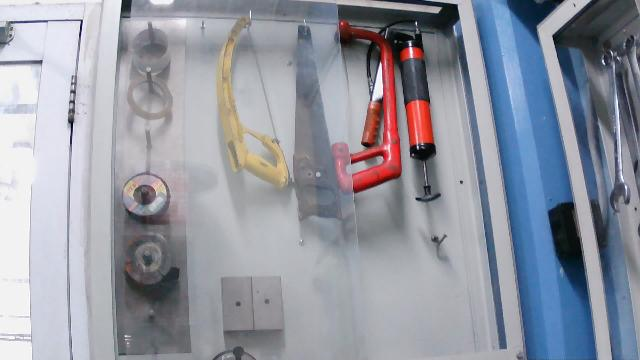gergaji_besi: (327, 19, 403, 196)
